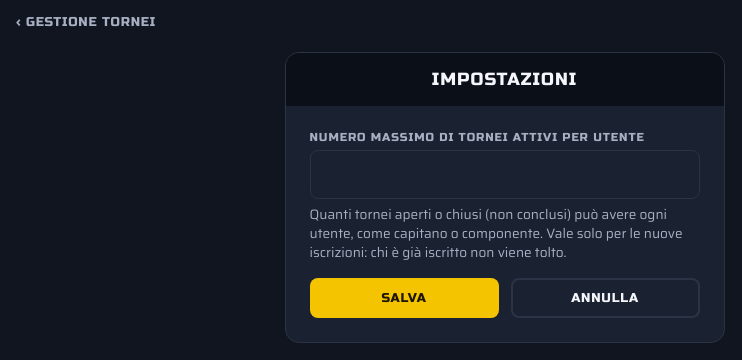
Scenario: ImpostazioniComponent › rifiuta il valore ""
The image size is (742, 360).
Click the submit button at [404, 298], box top-left (310, 278), bottom-right (498, 318)
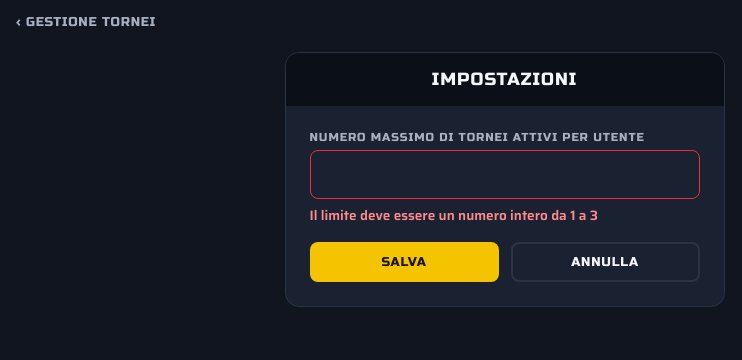
expect the text "Il limite deve essere un numero intero da 1 a 3" is shown: met, box top-left (310, 205), bottom-right (598, 226)
